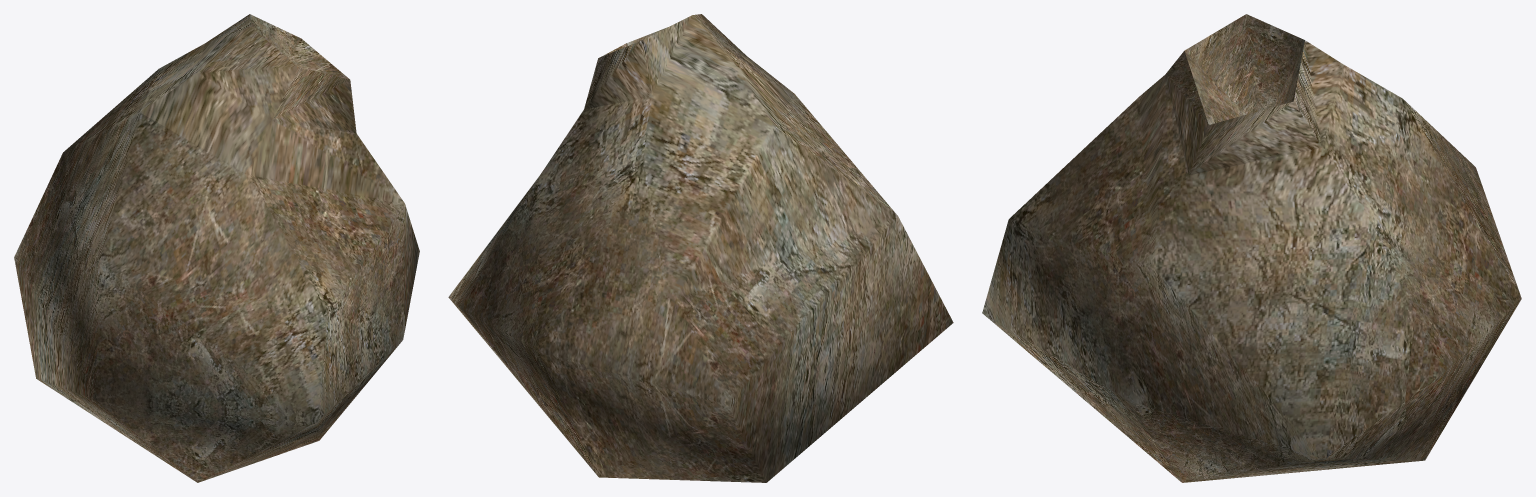
File: poi_all_lair_mound_small_l3.fbx
The picture shows the model from 3 angles, left to right: view 1: azimuth 30°, elevation 25°; view 2: azimuth 150°, elevation 25°; view 3: azimuth 270°, elevation 25°; orthographic projection. The views are drawn at different scales.
Parts seen in each view (by area): view 1: mesh_node; view 2: mesh_node; view 3: mesh_node.
Boxes of the visible parts, x1,y1,x2,y2 form: mesh_node: (14,14,419,482); mesh_node: (448,14,953,482); mesh_node: (982,14,1521,482).
Bounding box in the file's own units: 2.15 × 2.02 × 2.21.
